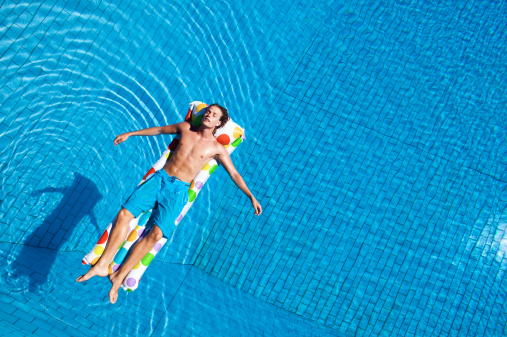deitado: (93, 85, 247, 293)
